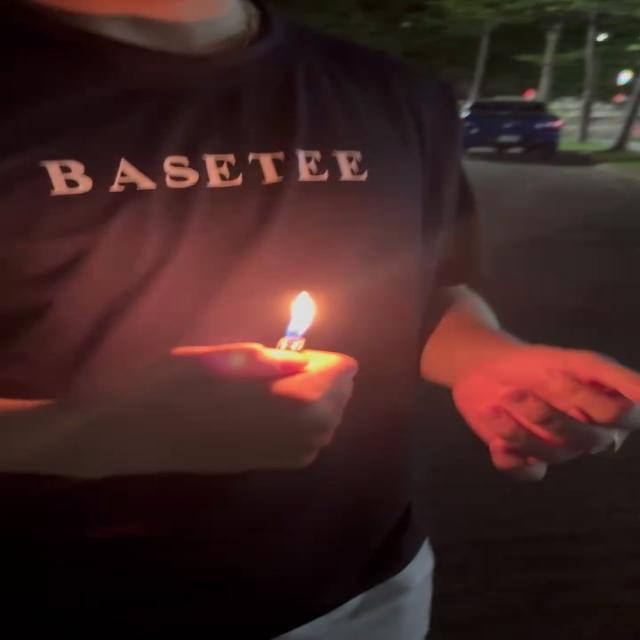Fire: (284, 291, 326, 342)
